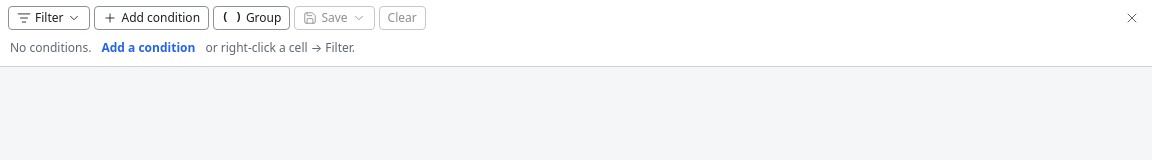
Test: FilterBar › removing a condition and Clear
Click the button "Add condition" at (152, 18), box x1=94 y1=6 x2=209 y2=30
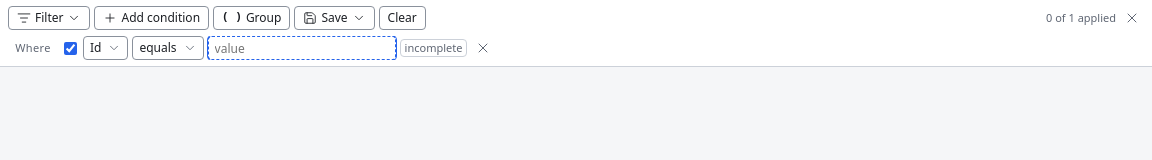
Click the button "Add condition" at (152, 18), box x1=94 y1=6 x2=209 y2=30
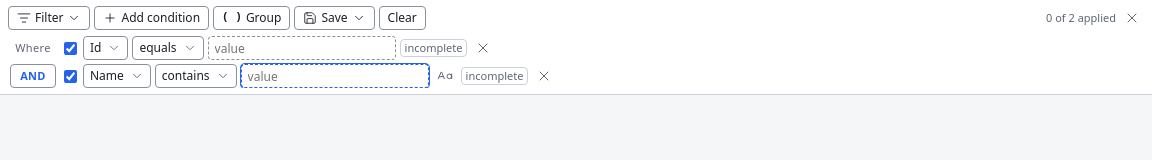
Click the button named "Remove condition" in the row of "Where" at (483, 48), box x1=471 y1=36 x2=495 y2=60
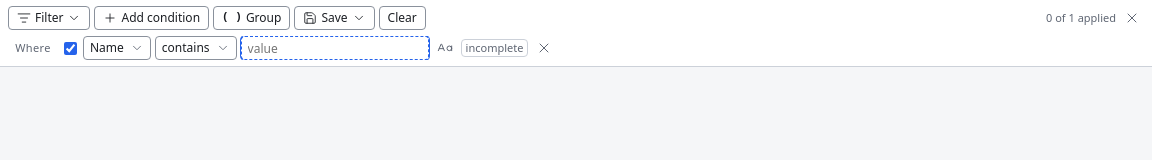
Click the button "Clear" at (402, 18), box x1=379 y1=6 x2=426 y2=30
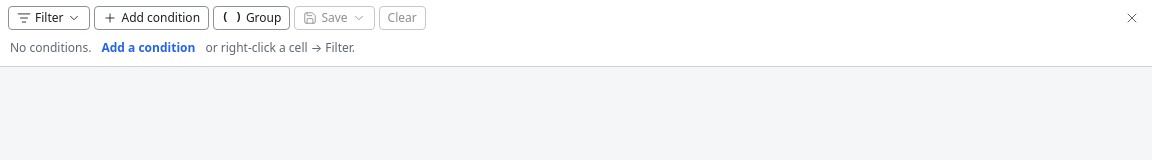
Expected: the text "No conditions." is shown, x1=10 y1=40 x2=92 y2=56
